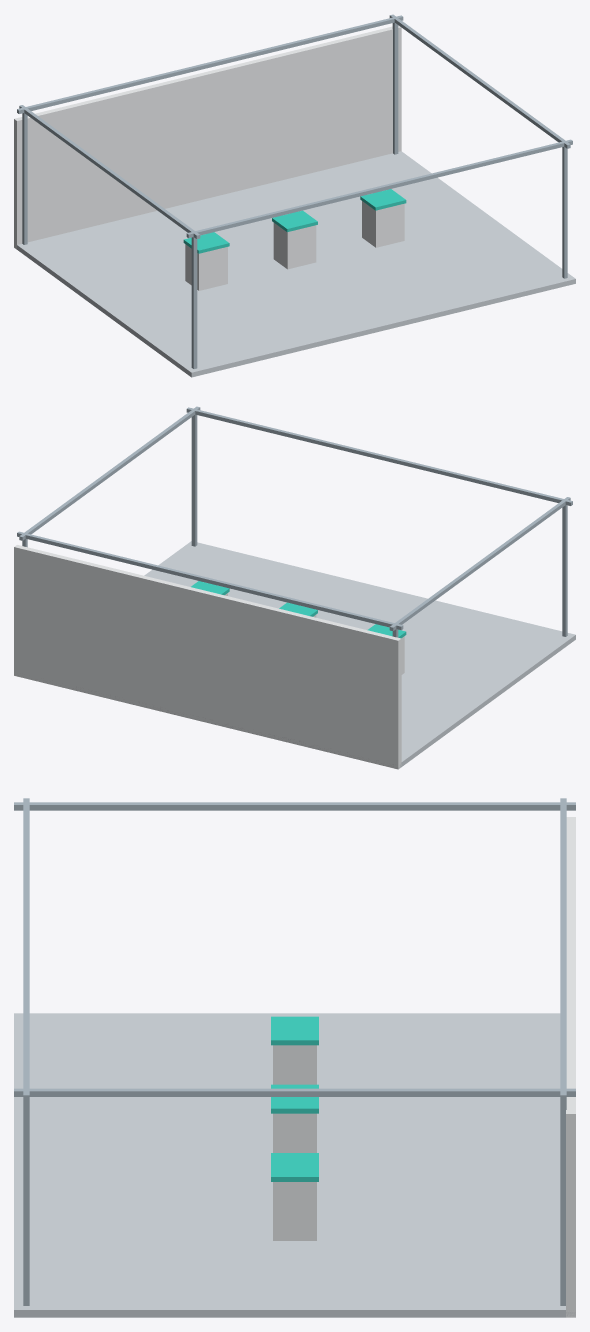
The picture shows the model from 3 angles, top to bottom: view 1: azimuth 30°, elevation 25°; view 2: azimuth 150°, elevation 25°; view 3: azimuth 270°, elevation 25°; orthographic projection. The views are drawn at different scales.
Visible parts, largest first — view 1: Exhibition Booth Concept; view 2: Exhibition Booth Concept; view 3: Exhibition Booth Concept.
Boxes of the visible parts, left/top/right/bottom form: Exhibition Booth Concept: left=14, top=14, right=575, bottom=377; Exhibition Booth Concept: left=14, top=406, right=575, bottom=769; Exhibition Booth Concept: left=14, top=798, right=575, bottom=1317.
Size of the model in its own units: 10 by 3.49 by 8.
